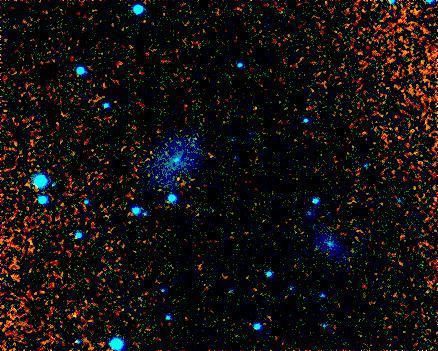star: (55, 302, 85, 332)
